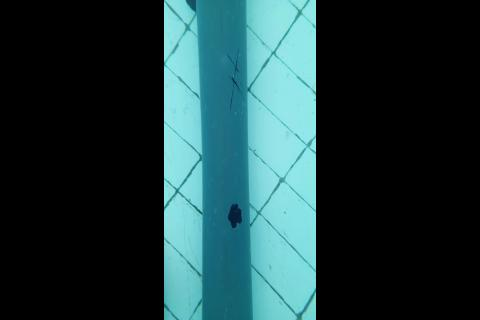kebocoran: (226, 202, 243, 231)
keretakan: (225, 48, 243, 111)
